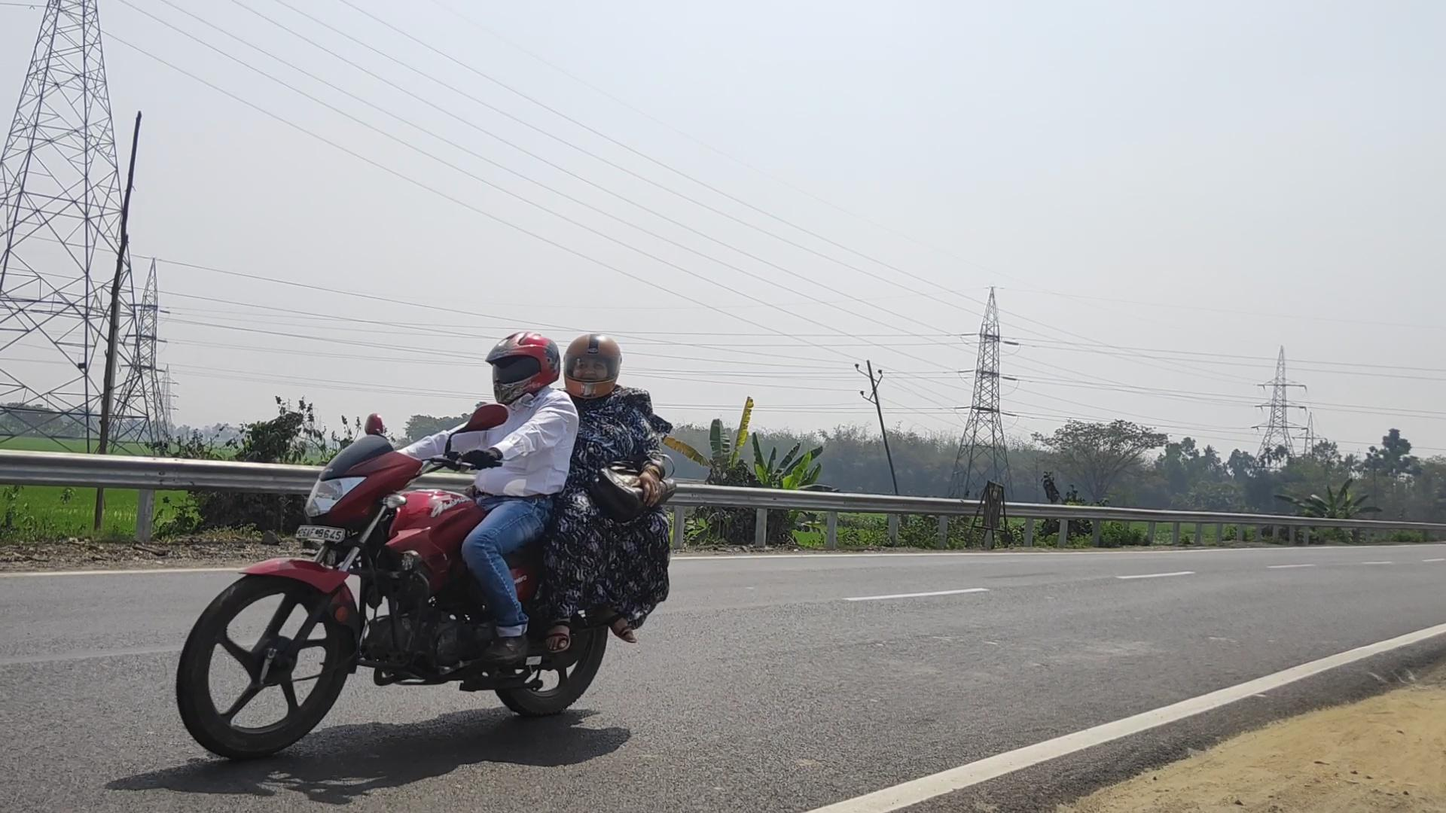bike: (176, 330, 676, 763)
